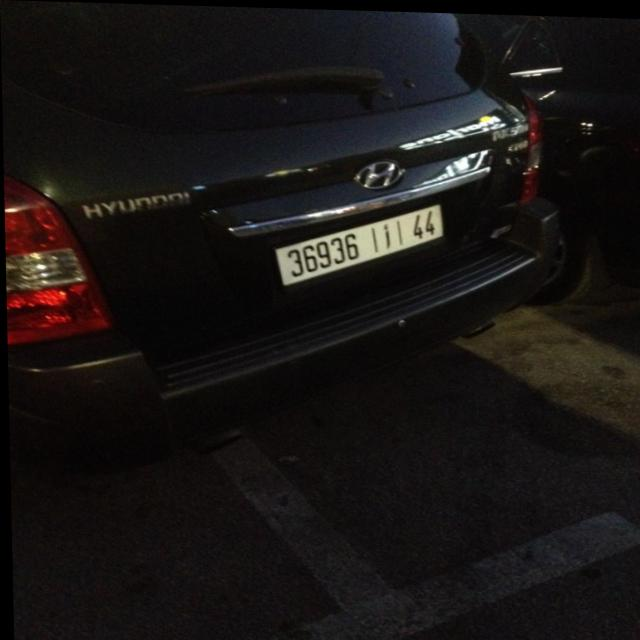License-Plate: (274, 202, 441, 283)
